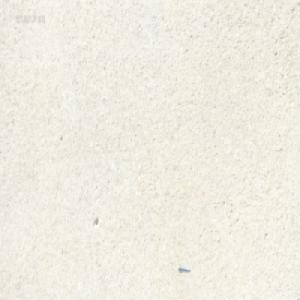Nail: (178, 263, 190, 272)
